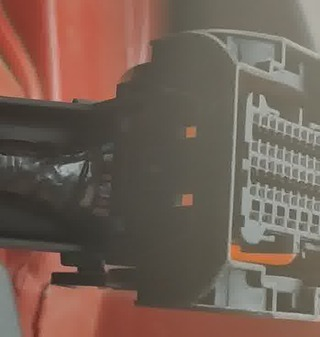connector: (136, 28, 320, 322)
